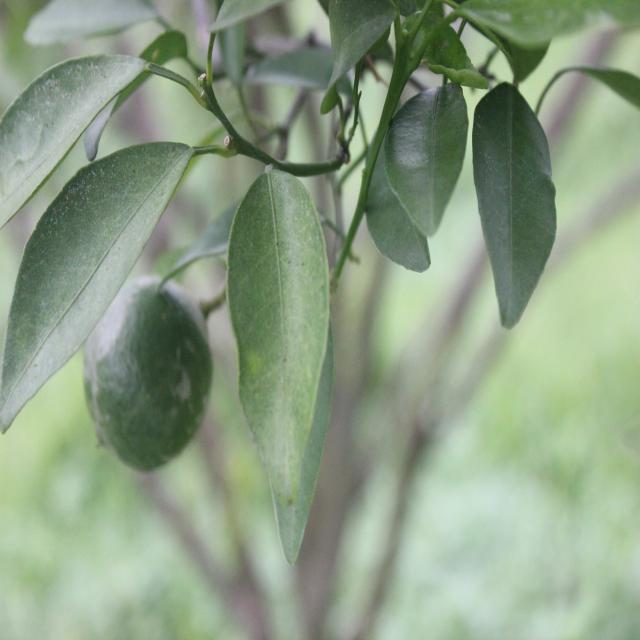blackspot: (258, 218, 307, 504), (50, 238, 119, 316), (102, 149, 161, 237), (29, 340, 71, 381), (34, 116, 59, 144)
